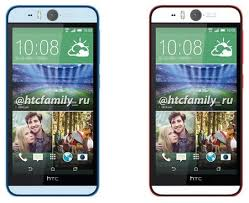htc: (145, 1, 244, 195), (3, 1, 100, 194)
